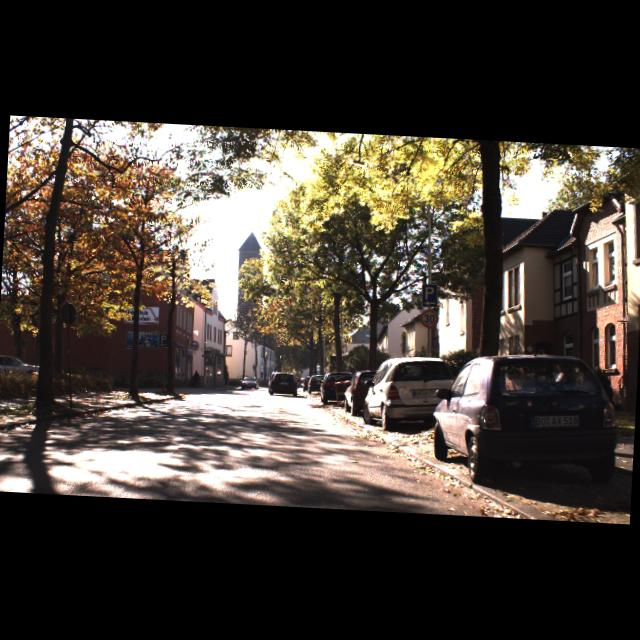prohibitory: (420, 307, 440, 328)
